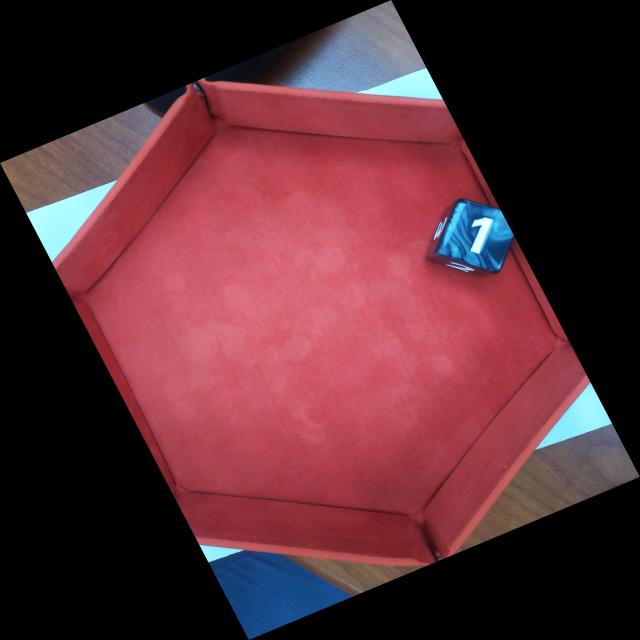dice: (443, 204, 515, 272)
